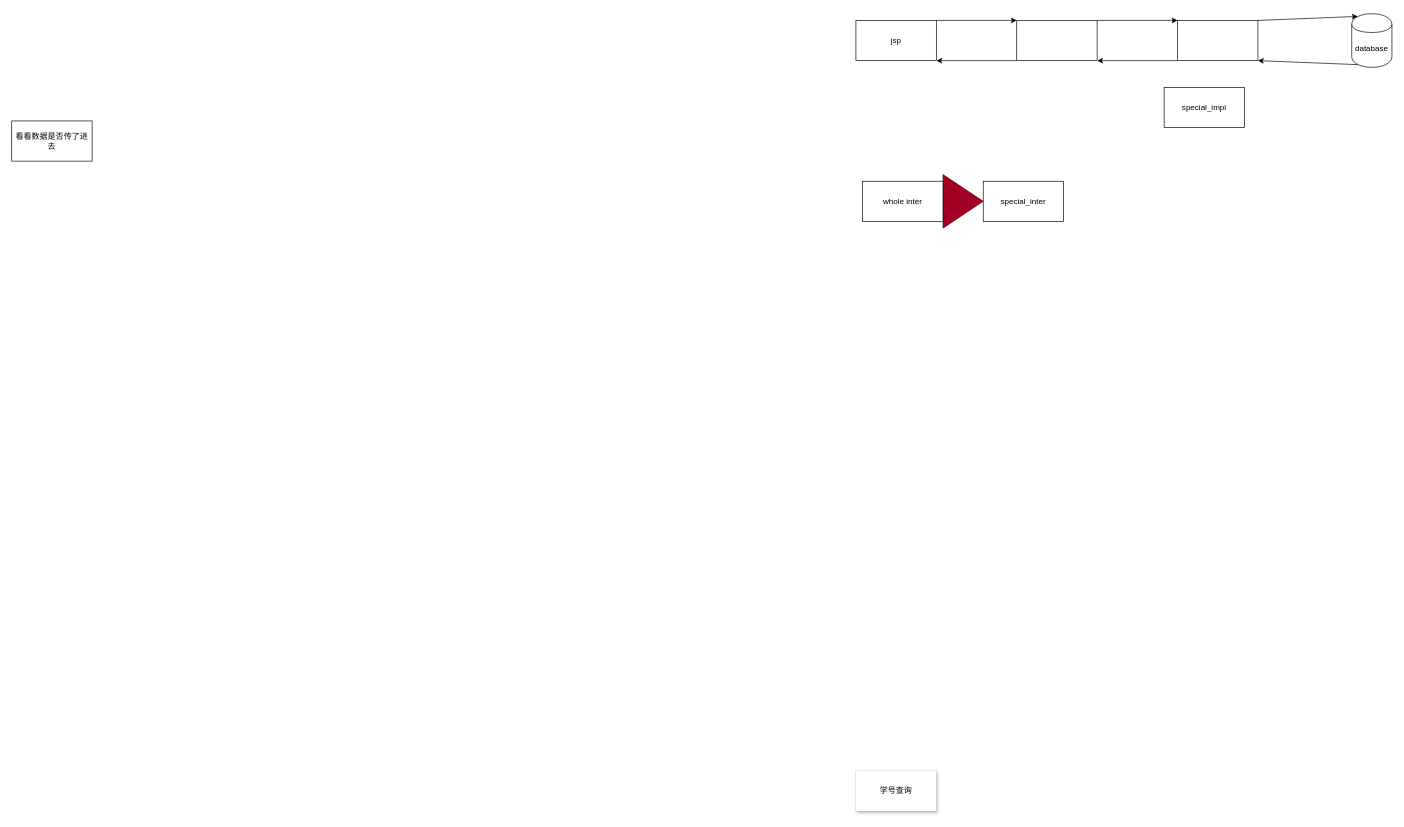
Some shapes in this 1404 by 827 pixel diagram are drawn without their labels. Here are the shapes that lost their labels. From the top down, the centre of each, then its label:
At [1056,40]: "servlet".
At [1217,40]: "dao".
